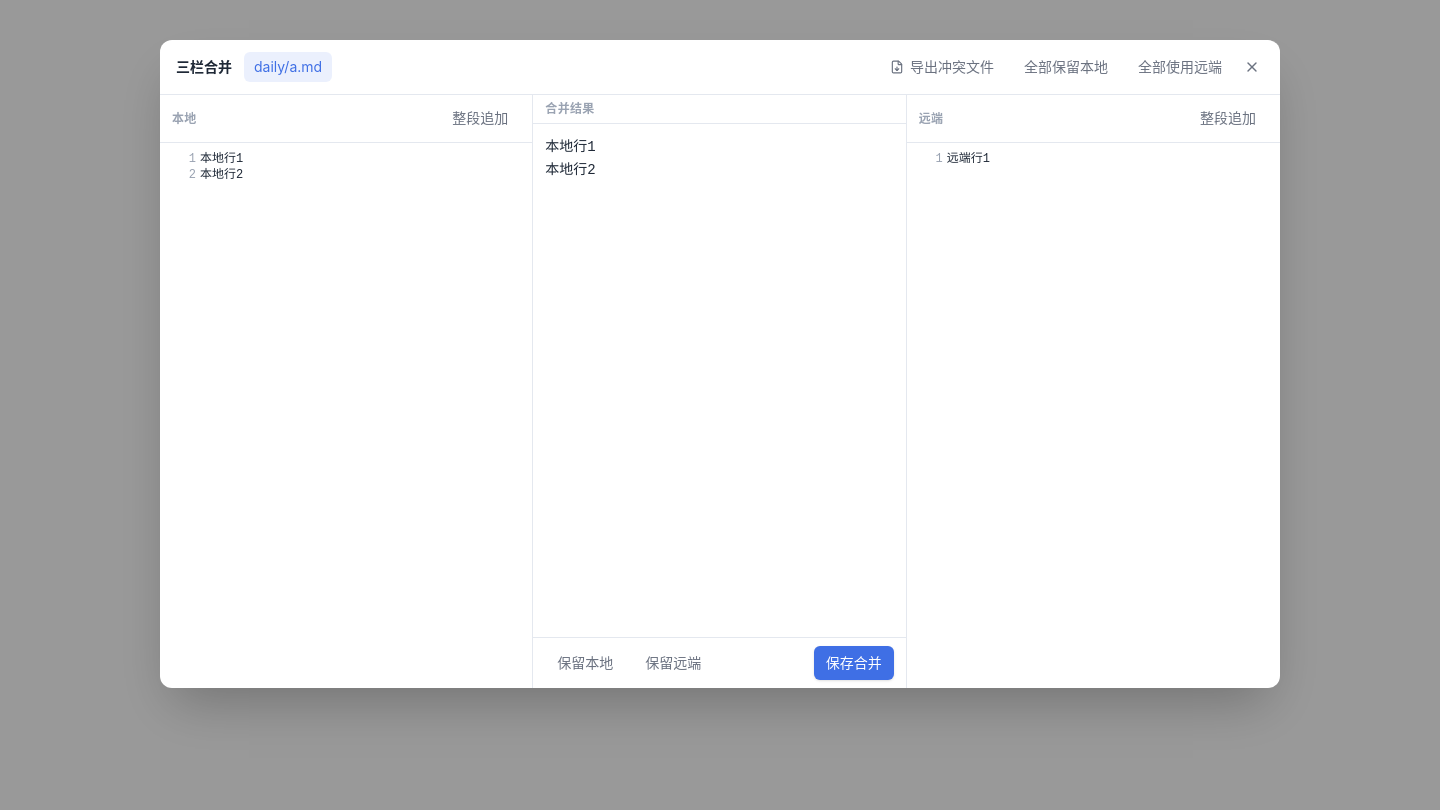
Test: ConflictMergeDialog 导出兜底 › 导出失败时提示重试
This screenshot has width=1440, height=810.
Step 1. Click the button "导出冲突文件" → (942, 67), box [878,50,1006,84]
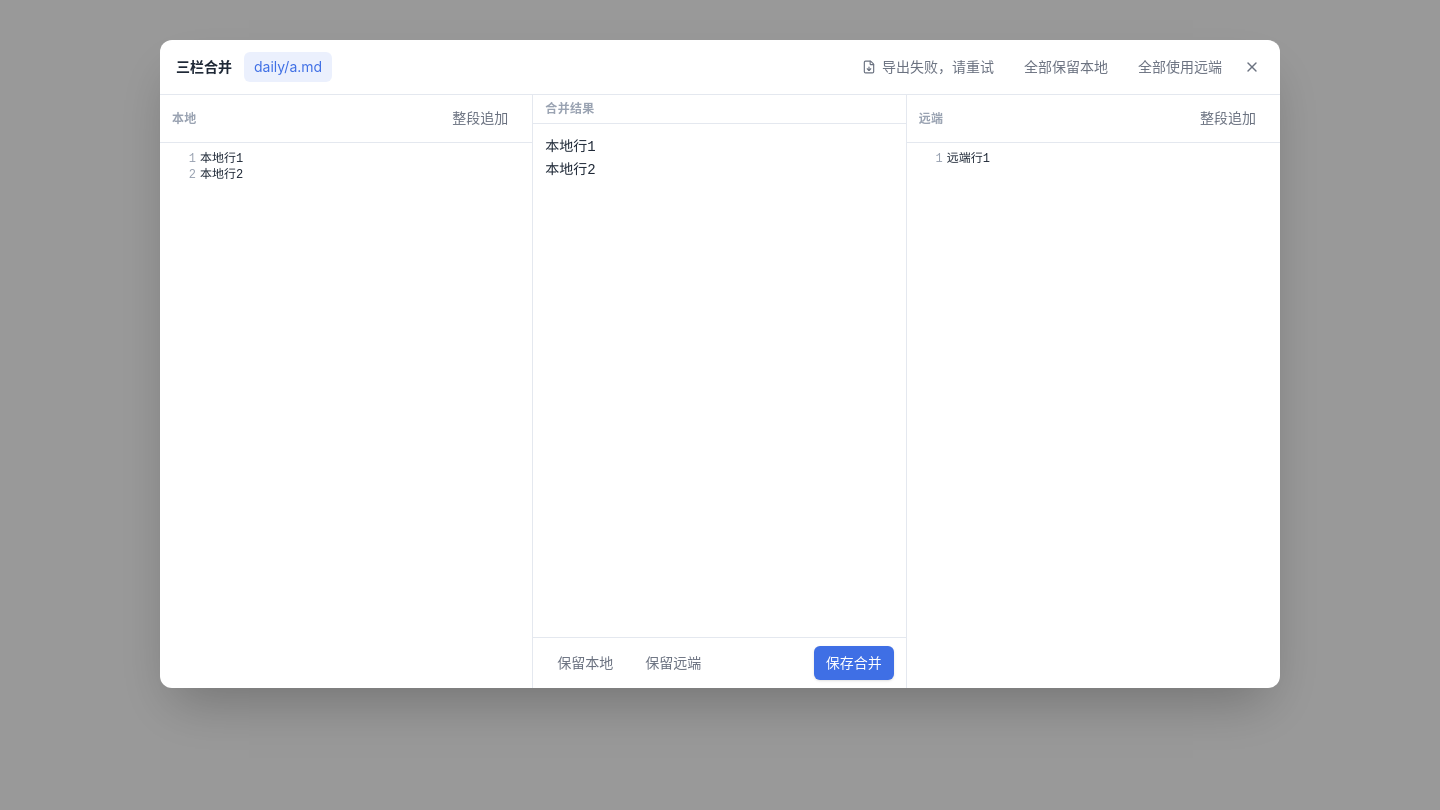
Check: the button "导出失败，请重试" is shown, box [850,50,1006,84]
